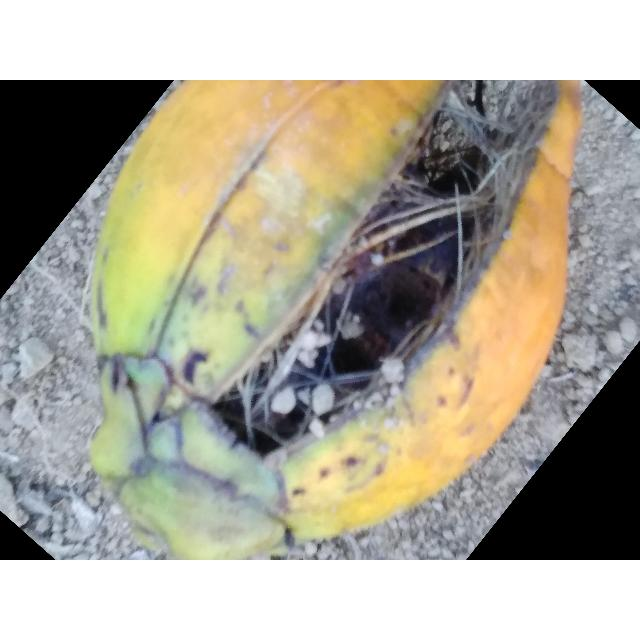damaged: (90, 80, 580, 560)
